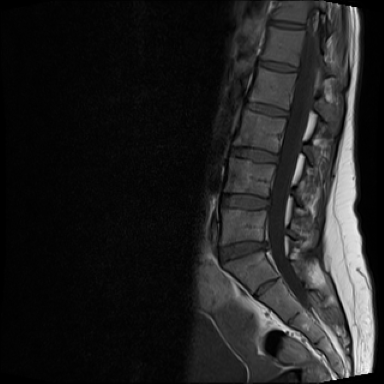Lumbar Disc Bulge (LDB): (212, 229, 278, 268)
Normal IVD: (215, 187, 274, 215), (238, 93, 293, 123), (230, 140, 283, 167), (251, 53, 302, 78), (261, 13, 310, 34)
Spinal Stenosis (SS): (252, 231, 278, 263)
